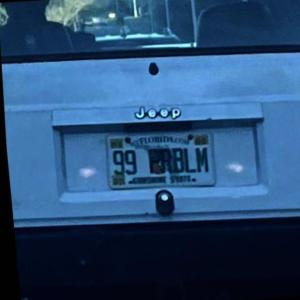Plate: (104, 128, 217, 189)
